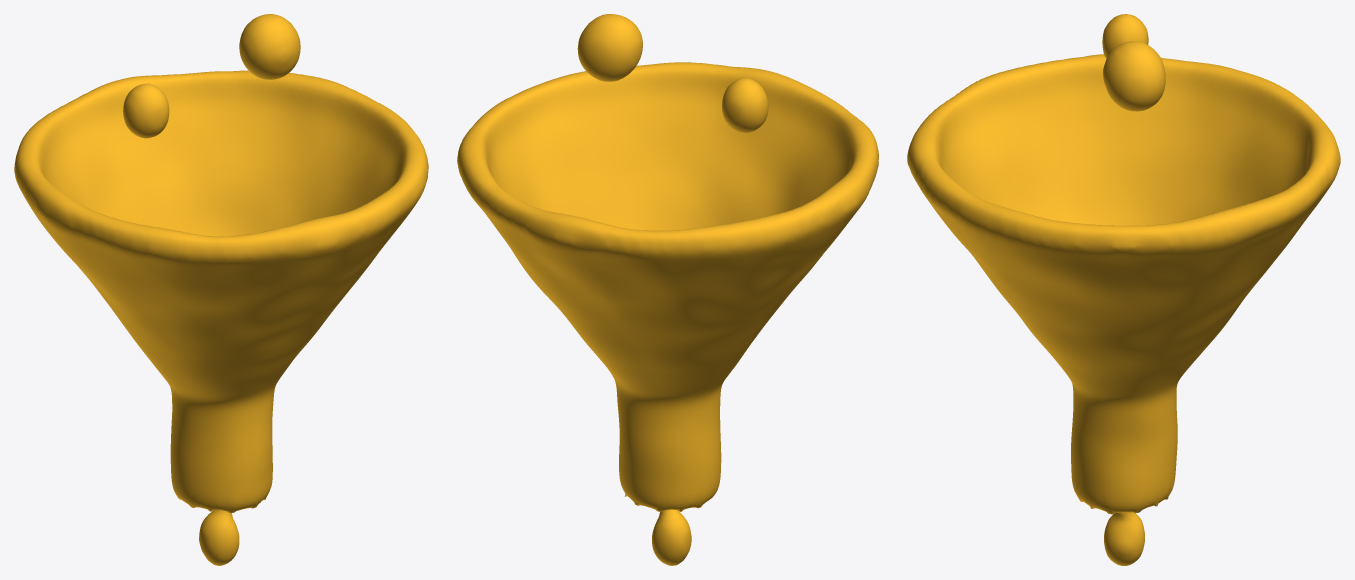
File: funnel.glb
The picture shows the model from 3 angles, left to right: view 1: azimuth 30°, elevation 25°; view 2: azimuth 150°, elevation 25°; view 3: azimuth 270°, elevation 25°; orthographic projection. The views are drawn at different scales.
Visible parts, largest first — view 1: Halevora_funnel; view 2: Halevora_funnel; view 3: Halevora_funnel.
Boxes of the visible parts, bbox=[...] form: Halevora_funnel: bbox=[14, 14, 428, 565]; Halevora_funnel: bbox=[457, 14, 878, 565]; Halevora_funnel: bbox=[907, 14, 1340, 565].
Bounding box in the file's own units: 2.03 × 2.86 × 2.05.
